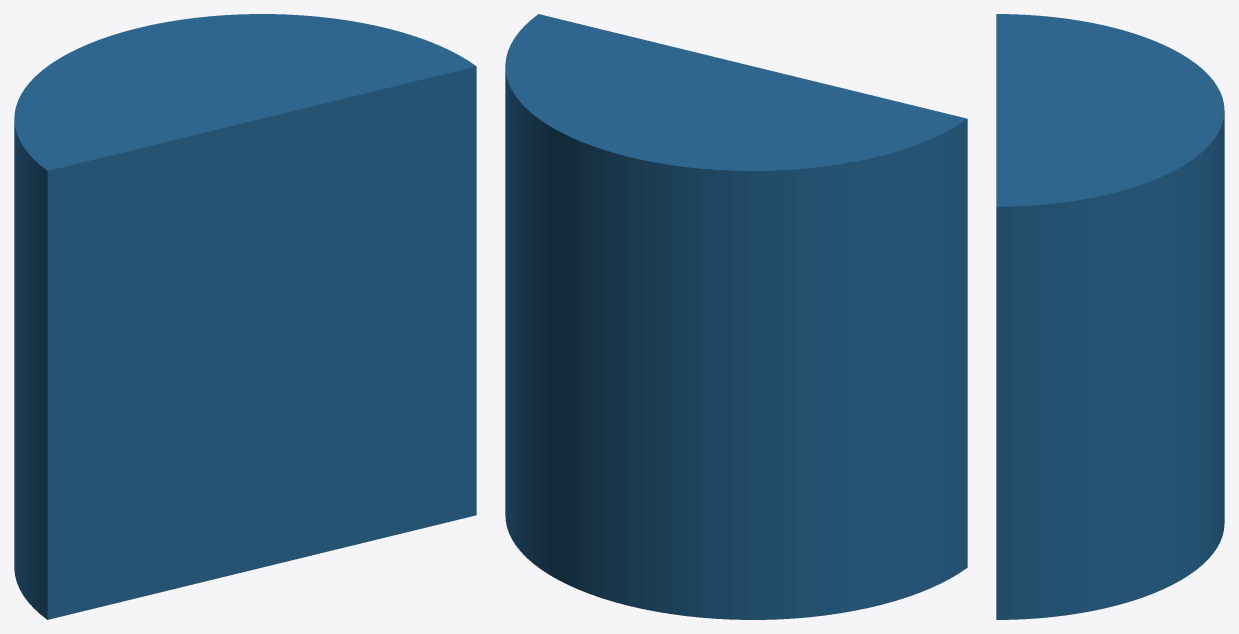
Rendered from SmallHemiB.fbx.
The picture shows the model from 3 angles, left to right: view 1: azimuth 30°, elevation 25°; view 2: azimuth 150°, elevation 25°; view 3: azimuth 270°, elevation 25°; orthographic projection. The views are drawn at different scales.
Visible parts, largest first — view 1: SmallHemiB; view 2: SmallHemiB; view 3: SmallHemiB.
Boxes of the visible parts, x1,y1,x2,y2 form: SmallHemiB: (14,14,476,619); SmallHemiB: (505,14,967,619); SmallHemiB: (996,14,1224,619).
Size of the model in its own units: 600 by 600 by 300.
